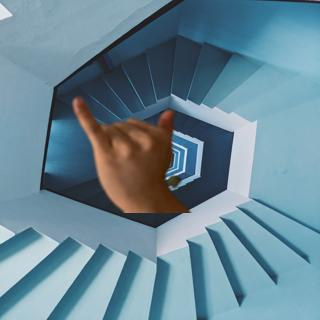HAVE: (66, 90, 181, 207)
